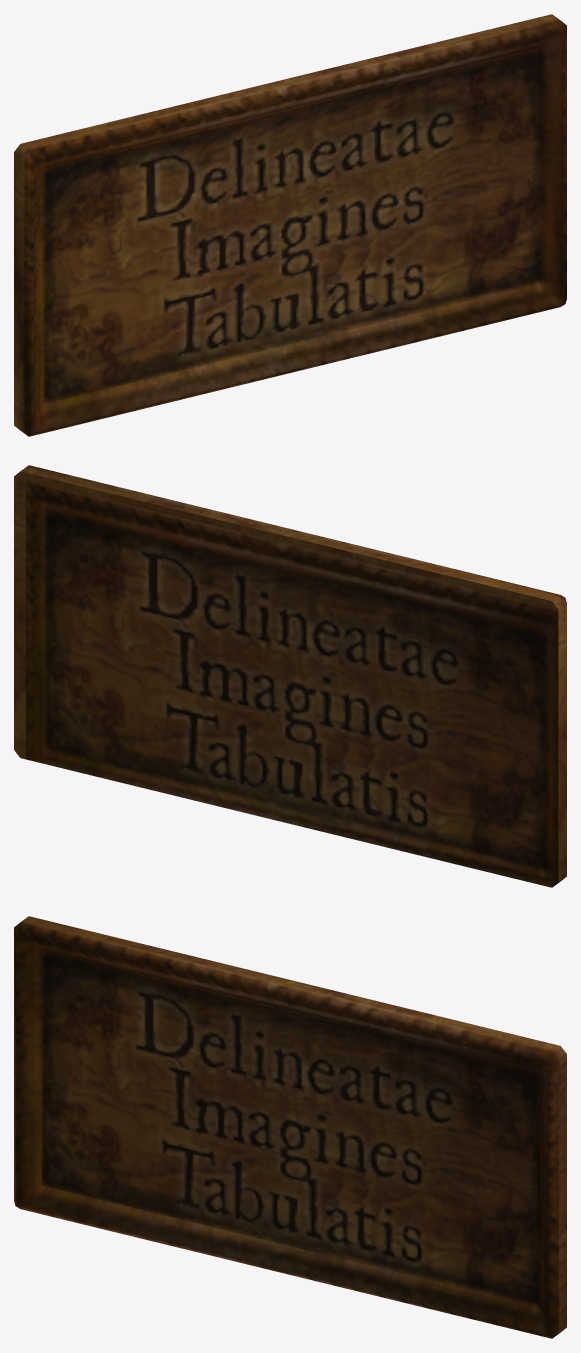
File: sign_floor_plans.dae
3 renders of one model, top to bottom at view 1: azimuth 30°, elevation 25°; view 2: azimuth 150°, elevation 25°; view 3: azimuth 330°, elevation 25°, orthographic.
Visible parts, largest first — view 1: Box02; view 2: Box02; view 3: Box02.
Boxes of the visible parts, bbox=[...] form: Box02: bbox=[14, 14, 566, 436]; Box02: bbox=[14, 465, 566, 887]; Box02: bbox=[14, 916, 566, 1338].
Size of the model in its own units: 0.6037 by 0.0235 by 0.3038.
